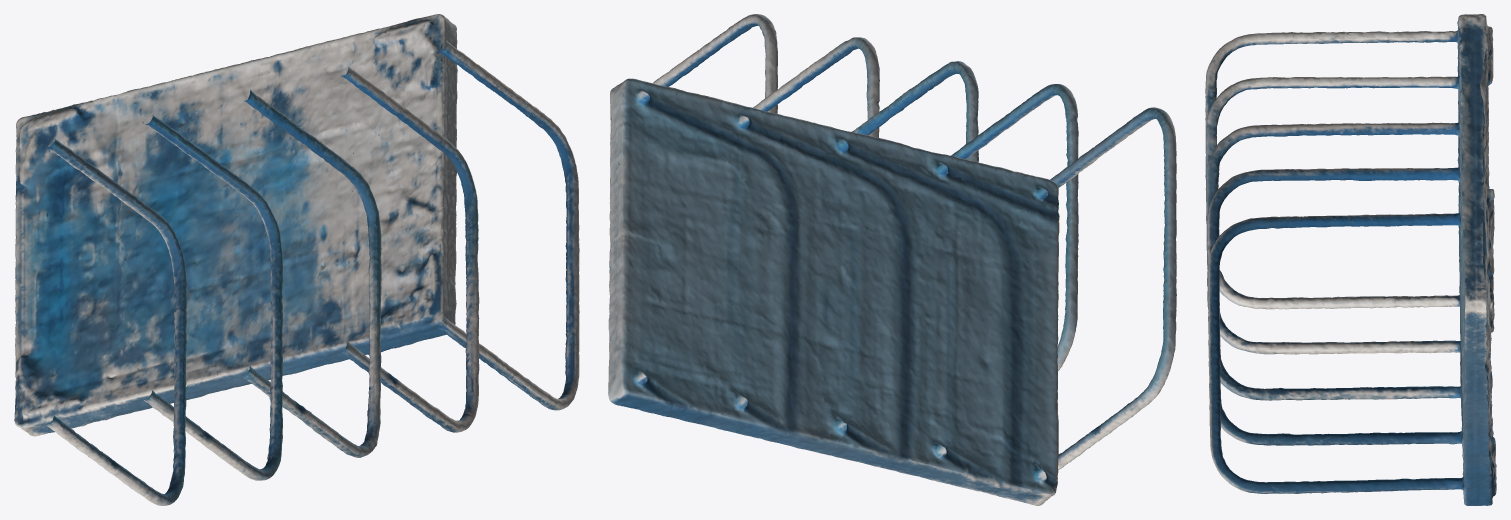
Rendered from sorter.glb.
The picture shows the model from 3 angles, left to right: view 1: azimuth 30°, elevation 25°; view 2: azimuth 150°, elevation 25°; view 3: azimuth 270°, elevation 25°; orthographic projection. The views are drawn at different scales.
Size of the model in its own units: 1 by 0.7013 by 0.6121.
